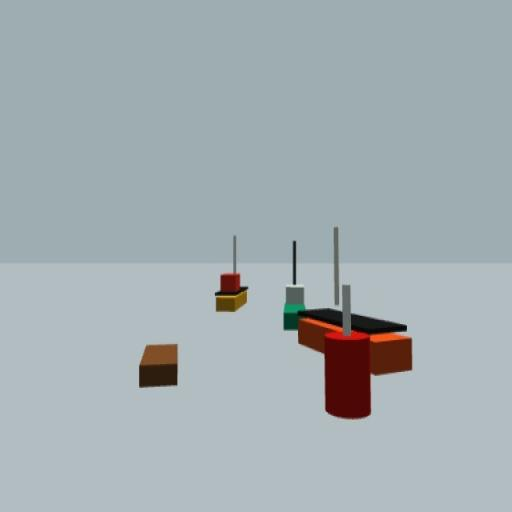debris_container: (138, 342, 179, 390)
fishing_boat: (282, 240, 307, 332)
floating_obstacle: (324, 286, 372, 422)
vessel: (214, 233, 249, 313)
